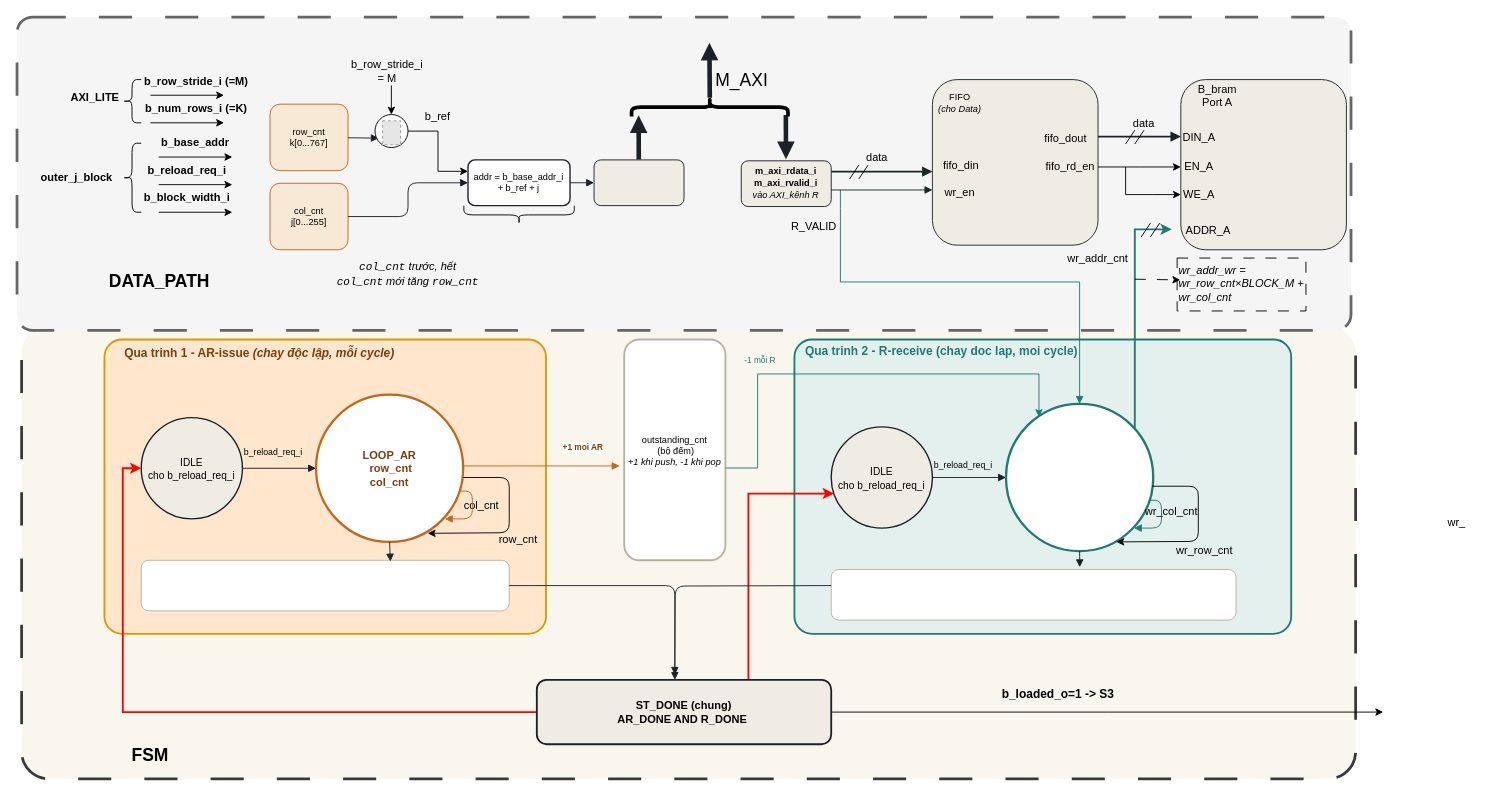
Some shapes in this 1501 by 796 pixel diagram are drawn without their labels. Grey dashed boxes stand in for pictures. Here are the shapes that lost their labels. From the top down, the centre of each, then its label:
point 638,182: m_axi_araddr_o m_axi_arvalid_o ra AXI, kenh AR
point 518,214: B_ptr + j_block
point 1079,477: LOOP_R RVALID:FIFO outstanding -=1
point 324,585: AR_DONE 196.608
point 1033,594: R_DONE
